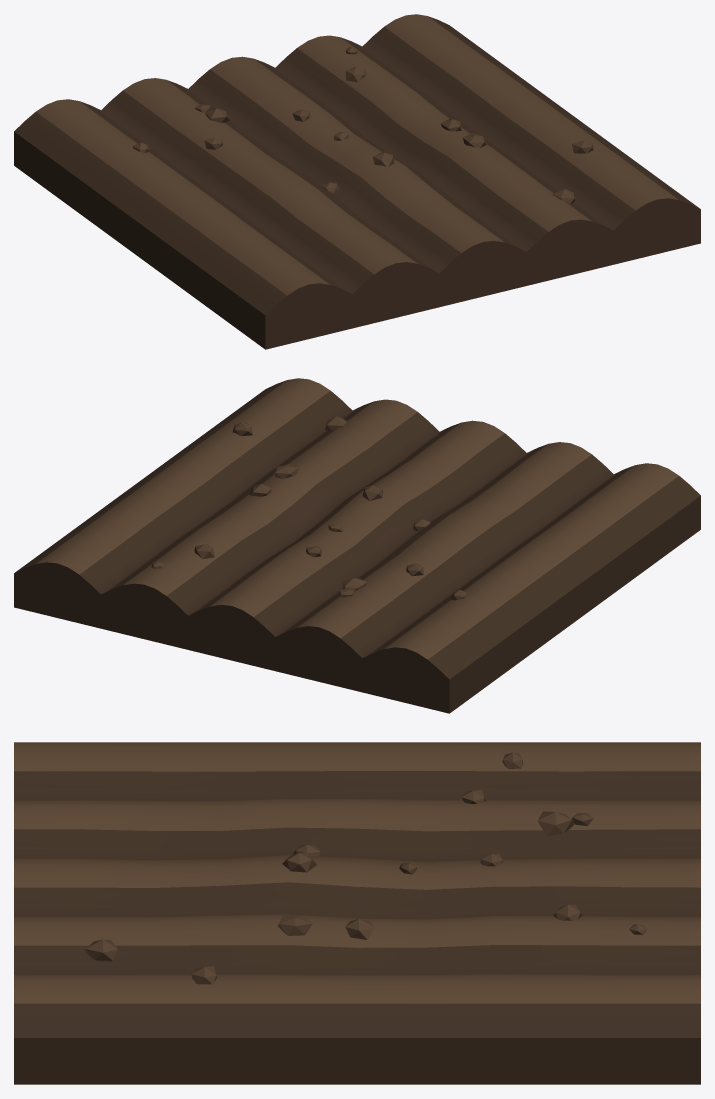
Rendered from Champ_Laboure_A.fbx.
The picture shows the model from 3 angles, top to bottom: view 1: azimuth 30°, elevation 25°; view 2: azimuth 150°, elevation 25°; view 3: azimuth 270°, elevation 25°; orthographic projection. The views are drawn at different scales.
Visible parts, largest first — view 1: Champ_Laboure_A; view 2: Champ_Laboure_A; view 3: Champ_Laboure_A.
Boxes of the visible parts, bbox=[...] form: Champ_Laboure_A: bbox=[14, 14, 700, 349]; Champ_Laboure_A: bbox=[14, 378, 700, 713]; Champ_Laboure_A: bbox=[14, 742, 700, 1084].
Bounding box in the file's own units: 2 × 0.29 × 2.
